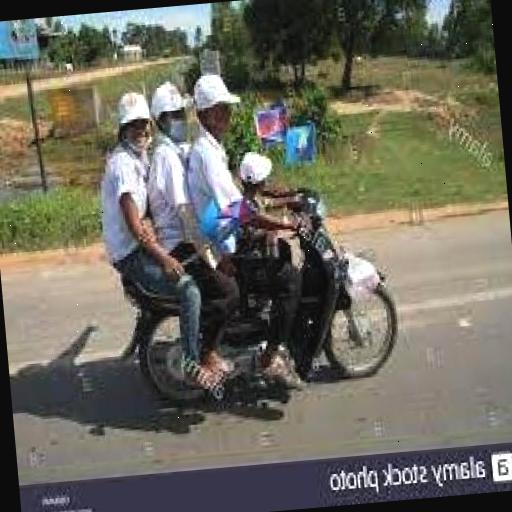no helmet: (184, 56, 284, 172)
triple riding: (82, 31, 438, 440)
